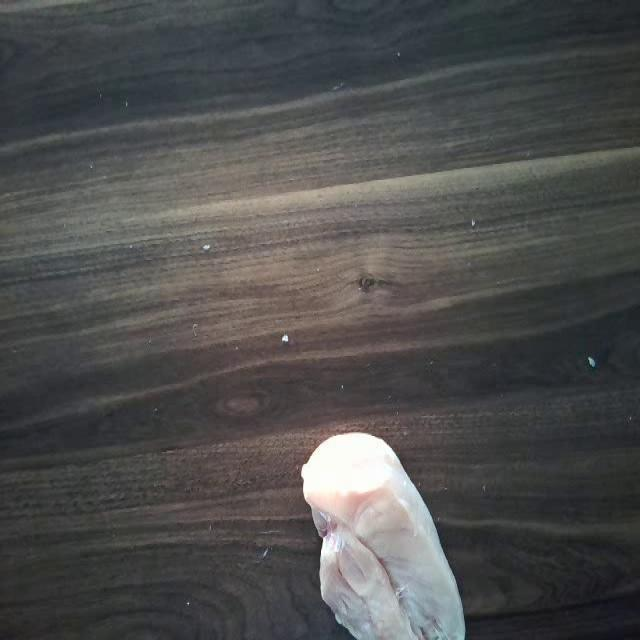breast: (290, 426, 466, 640)
